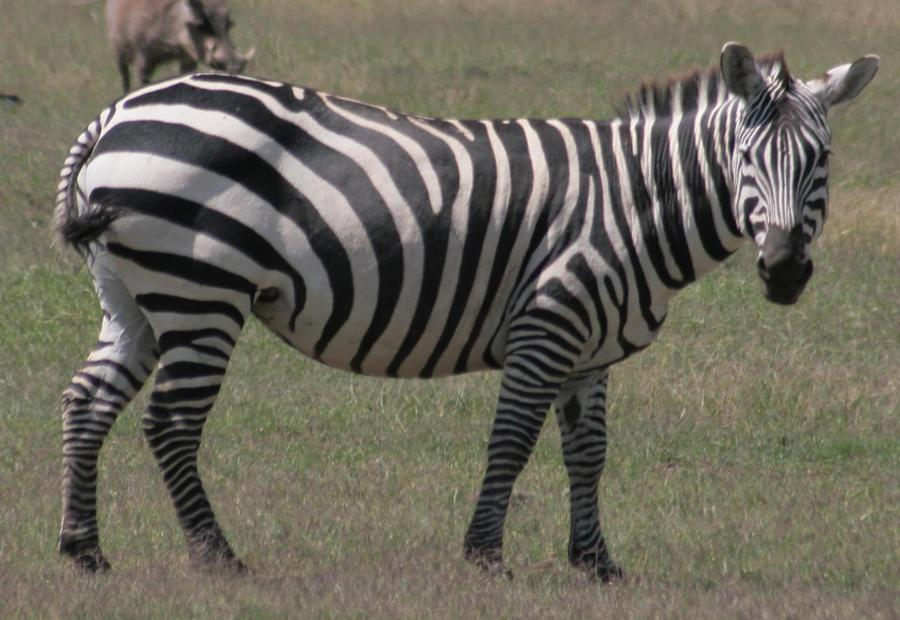zebra_plains: (106, 78, 657, 374)
